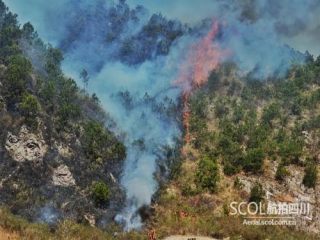fire: (185, 24, 224, 142)
smoke: (100, 61, 180, 228)
